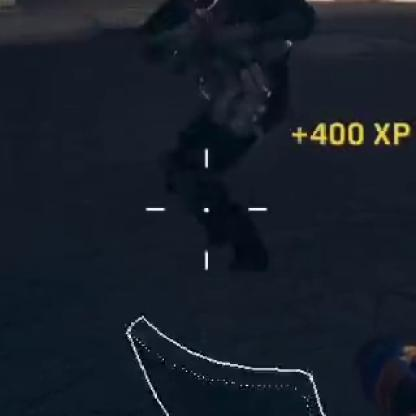enemy: (136, 2, 316, 278)
